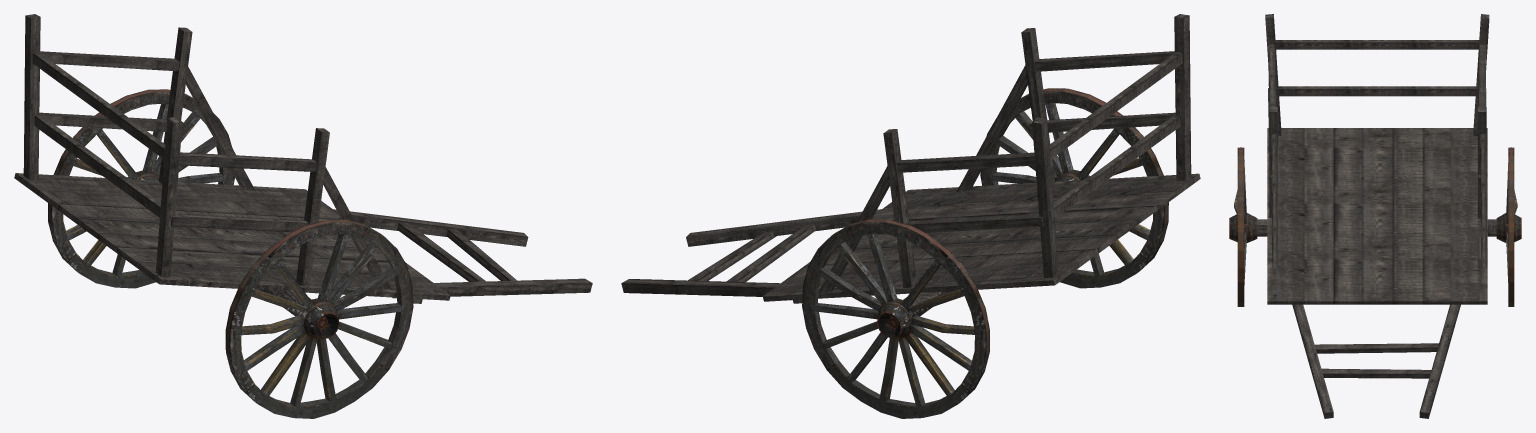
The model's file is haywagon.obj.
The picture shows the model from 3 angles, left to right: view 1: azimuth 30°, elevation 25°; view 2: azimuth 150°, elevation 25°; view 3: azimuth 270°, elevation 25°; orthographic projection. The views are drawn at different scales.
Parts seen in each view (by area): view 1: haywagon.obj; view 2: haywagon.obj; view 3: haywagon.obj.
Boxes of the visible parts, <box> form: haywagon.obj: <box>14,14,592,418</box>; haywagon.obj: <box>621,14,1200,418</box>; haywagon.obj: <box>1229,14,1521,418</box>.
Size of the model in its own units: 2.73 by 1.73 by 1.93.
Materials: 1 (1 with a texture image).
